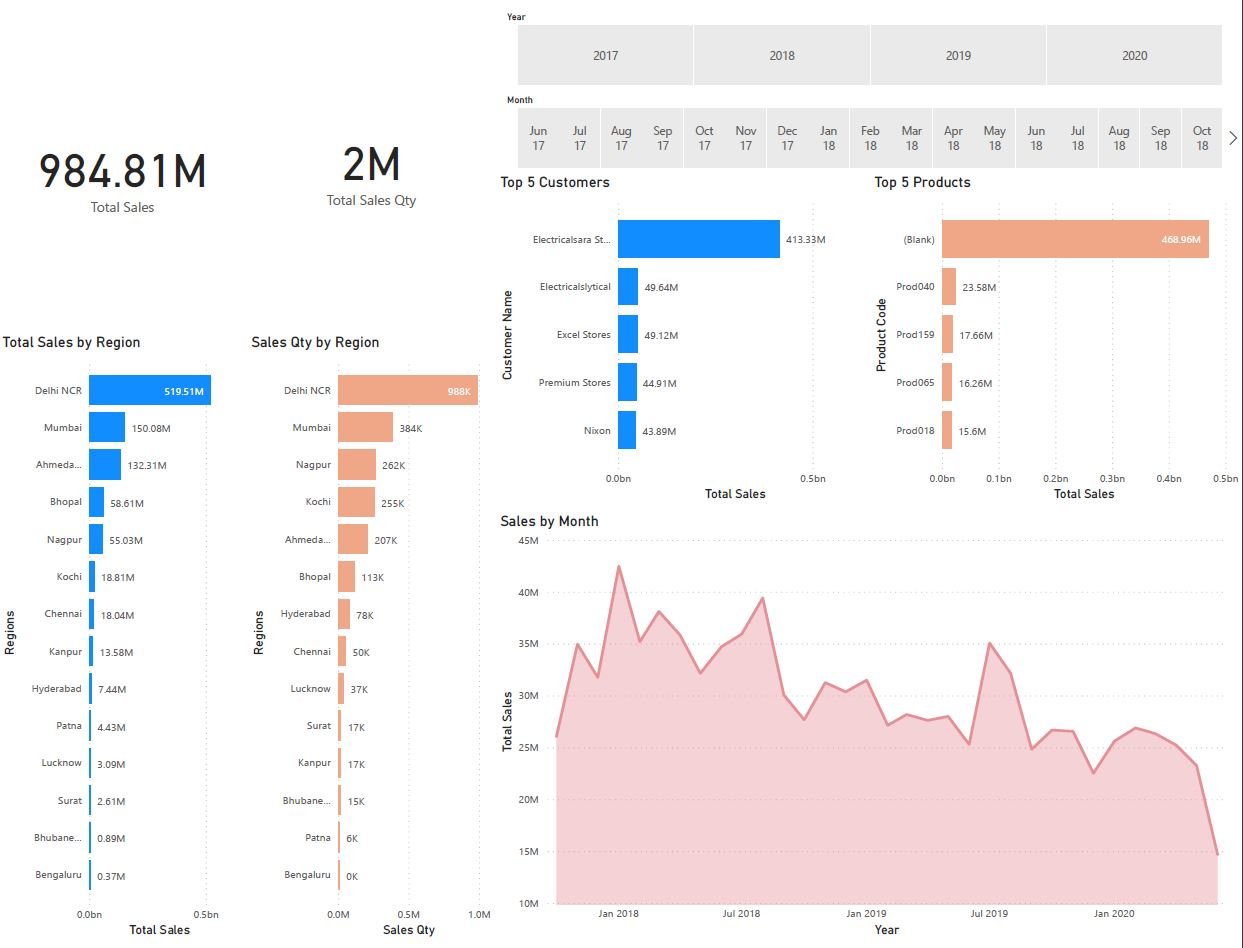

This screenshot's page, from the dashboard's own definition file:
{"tool":"powerbi","page":{"name":"Page 1","canvas":[1440,1080],"ordinal":0},"visuals":[{"type":"card","fields":{"Values":["Sum(sales transactions.sales_amount)"]},"box":[0,0,288,384],"z":0},{"type":"card","fields":{"Values":["Sum(sales transactions.sales_qty)"]},"box":[288,0,288,368],"z":1000},{"type":"barChart","title":"Total Sales by Region","fields":{"Y":["Sum(sales transactions.sales_amount)"],"Category":["sales markets.markets_name"]},"box":[0,376,288,704],"z":2000},{"type":"barChart","title":"Sales Qty by Region","fields":{"Category":["sales markets.markets_name"],"Y":["Sum(sales transactions.sales_qty)"]},"box":[288,376,288,704],"z":3000},{"type":"slicer","title":"Year","fields":{"Values":["sales date.year"]},"box":[576,0,864,96],"z":4000},{"type":"areaChart","title":"Sales by Month","fields":{"Category":["sales date.cy_date.Variation.Date Hierarchy.Year","sales date.cy_date.Variation.Date Hierarchy.Quarter","sales date.cy_date.Variation.Date Hierarchy.Month","sales date.cy_date.Variation.Date Hierarchy.Day"],"Y":["Sum(sales transactions.sales_amount)"]},"box":[576,584,864,496],"z":5000},{"type":"slicer","fields":{"Values":["sales date.cy_date"]},"box":[576,96,864,96],"z":6000},{"type":"barChart","title":"Top 5 Customers","fields":{"Y":["Sum(sales transactions.sales_amount)"],"Category":["sales customers.custmer_name"]},"box":[576,192,432,384],"z":7000},{"type":"barChart","title":"Top 5 Products","fields":{"Y":["Sum(sales transactions.sales_amount)"],"Category":["sales products.product_code"]},"box":[1008,192,432,384],"z":8000}]}

Visuals, with their boxes in screenshot pixels (x1, y1, x2, y2), scaled from the page's 1440x1080 canvas onto the 1243x948 screenshot:
card - Sum(sales transactions.sales_amount): 0, 0, 249, 337
card - Sum(sales transactions.sales_qty): 249, 0, 497, 323
"Total Sales by Region" barChart: 0, 330, 249, 947
"Sales Qty by Region" barChart: 249, 330, 497, 947
"Year" slicer: 497, 0, 1242, 84
"Sales by Month" areaChart: 497, 513, 1242, 947
slicer - sales date.cy_date: 497, 84, 1242, 169
"Top 5 Customers" barChart: 497, 169, 870, 506
"Top 5 Products" barChart: 870, 169, 1242, 506
